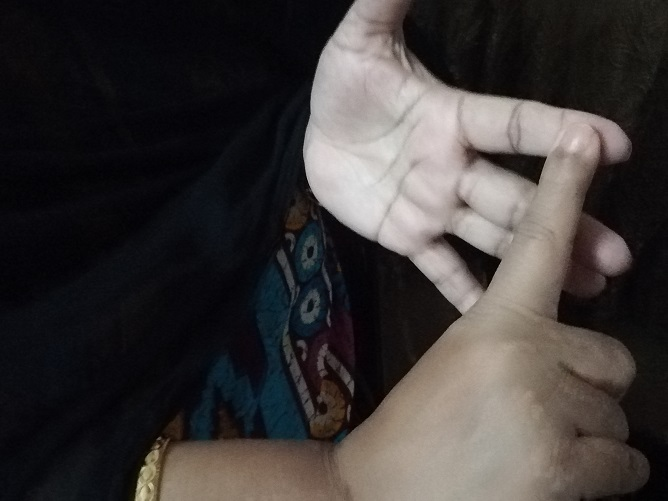o: (330, 22, 627, 429)
